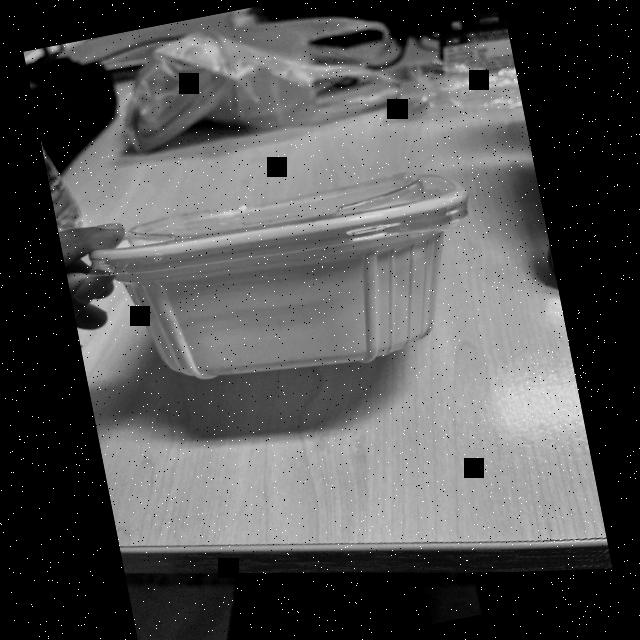plastic_box: (65, 126, 510, 420)
